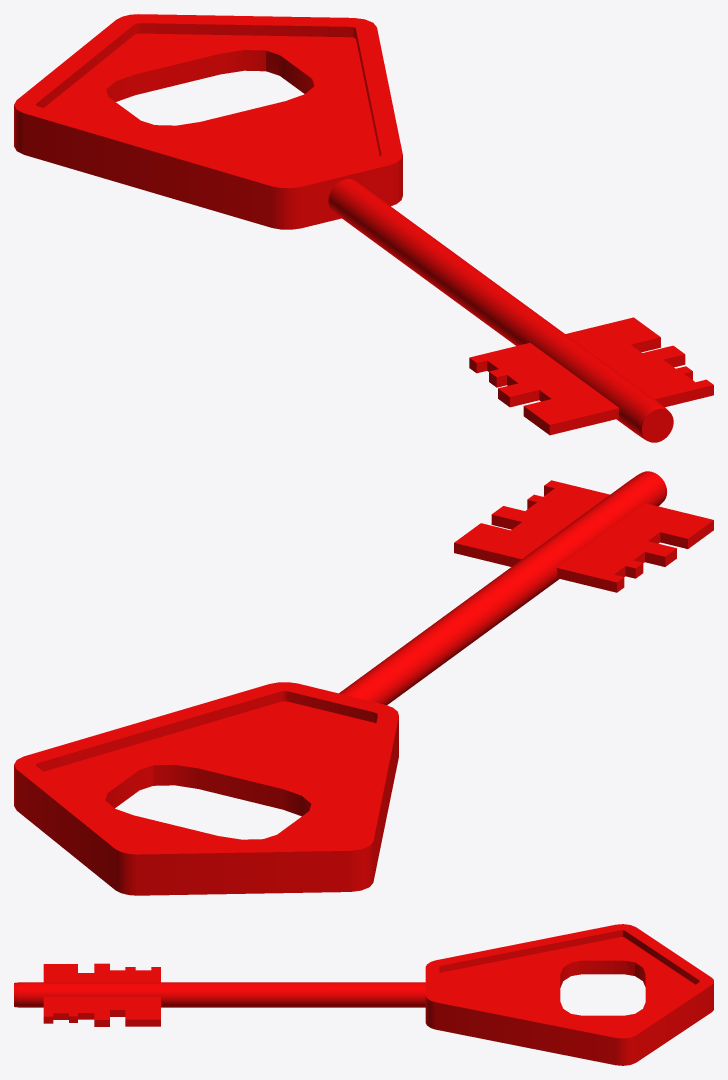
Rendered from key5_red.fbx.
3 views of the same model, one above another, from view 1: azimuth 30°, elevation 25°; view 2: azimuth 150°, elevation 25°; view 3: azimuth 270°, elevation 25° (orthographic). The views are drawn at different scales.
Parts seen in each view (by area): view 1: key5; view 2: key5; view 3: key5.
Boxes of the visible parts, <box> form: key5: <box>14,14,713,442</box>; key5: <box>14,471,713,895</box>; key5: <box>14,924,713,1065</box>.
Size of the model in its own units: 35.89 by 4 by 92.74.
